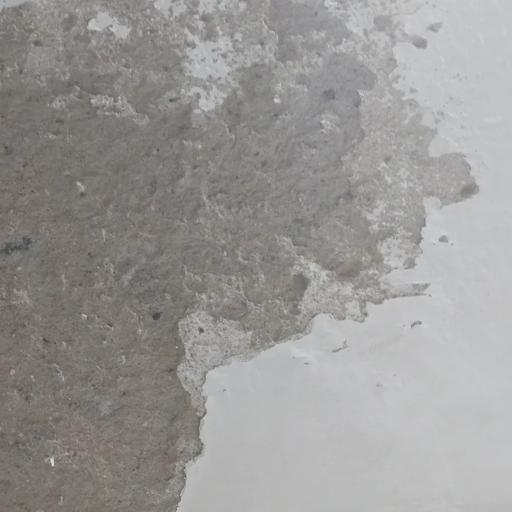spalling: (3, 0, 512, 506)
